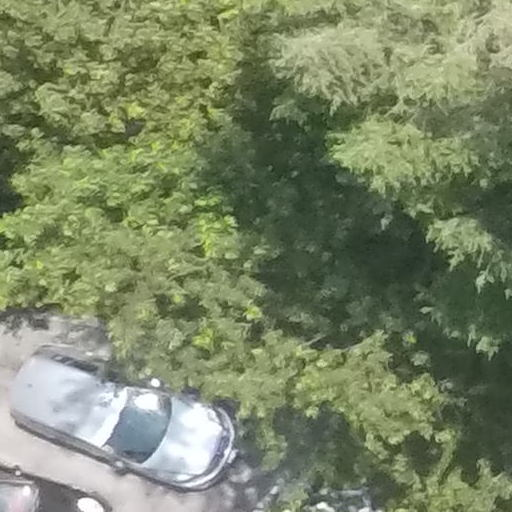car: (11, 328, 254, 489)
